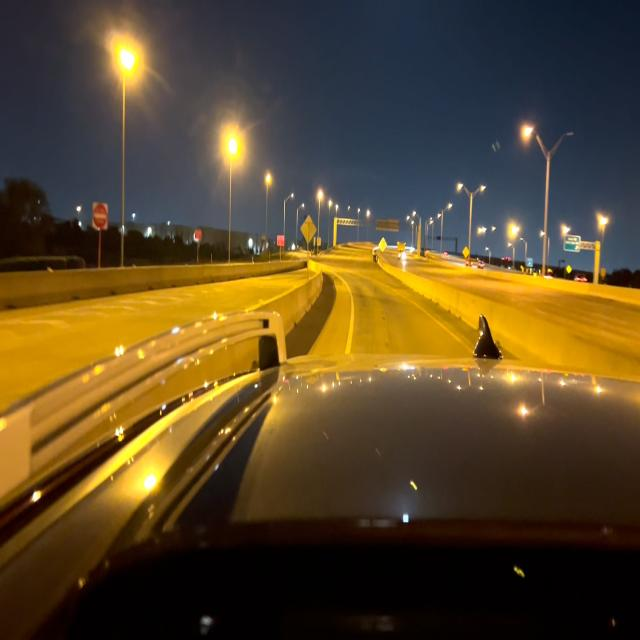back-of-sign: (302, 214, 316, 243)
